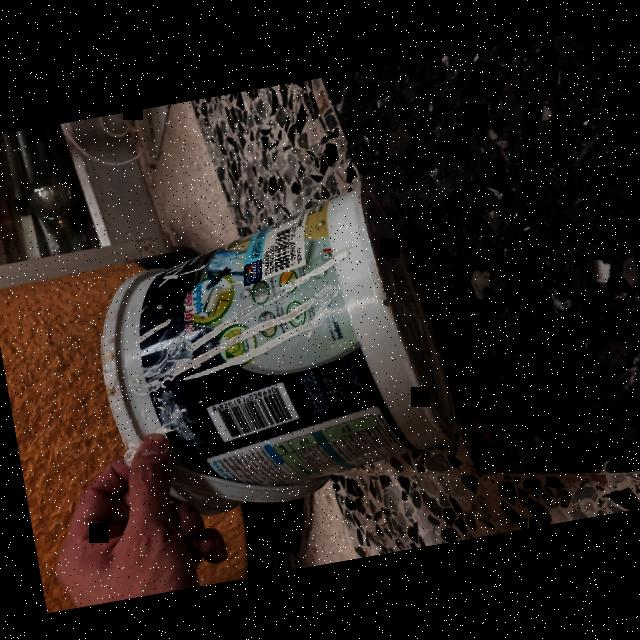paint_bucket: (76, 175, 470, 532)
